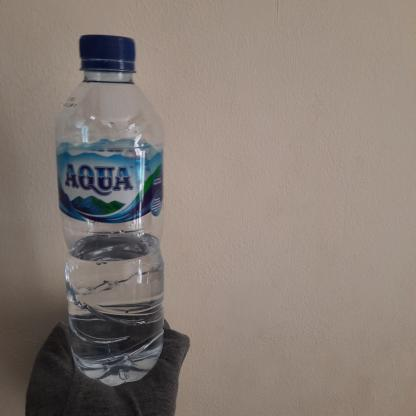bottle: (47, 31, 170, 389)
